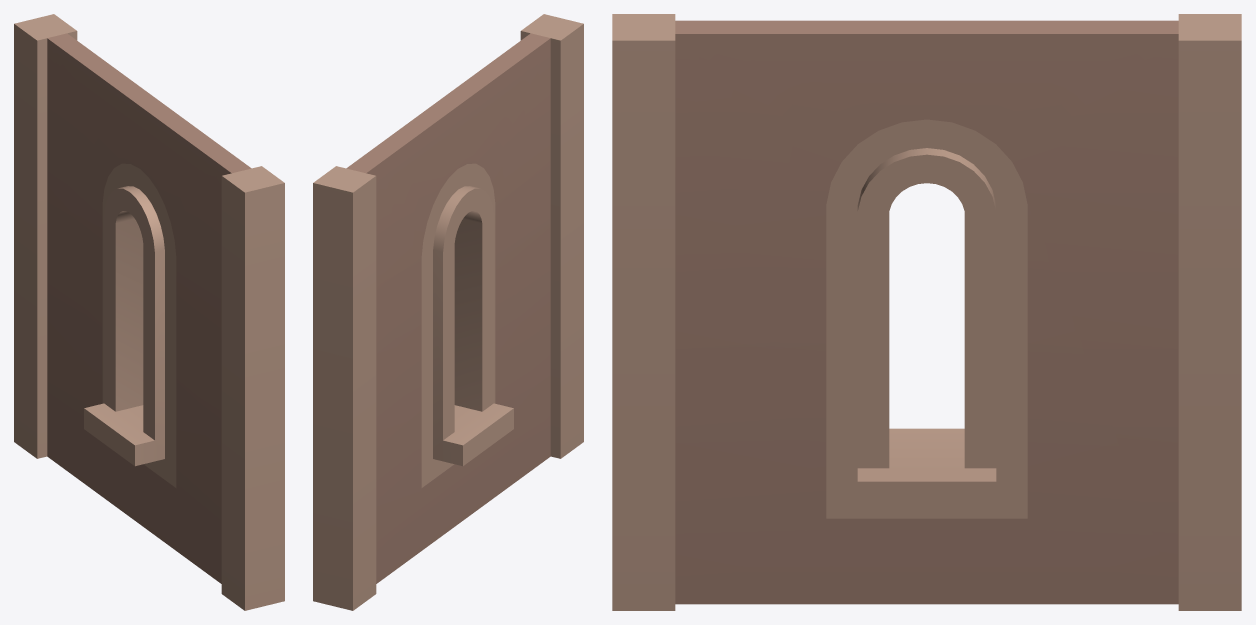
The model's file is wall-wood-window-round.glb.
3 renders of one model, left to right at view 1: azimuth 30°, elevation 25°; view 2: azimuth 150°, elevation 25°; view 3: azimuth 270°, elevation 25°, orthographic. The views are drawn at different scales.
Parts seen in each view (by area): view 1: wall-wood-window-round; view 2: wall-wood-window-round; view 3: wall-wood-window-round.
Boxes of the visible parts, x1=… form: wall-wood-window-round: x1=14, y1=14, x2=284, y2=610; wall-wood-window-round: x1=313, y1=14, x2=583, y2=610; wall-wood-window-round: x1=612, y1=14, x2=1241, y2=610.
Bounding box in the file's own units: 0.2 × 1 × 1.
